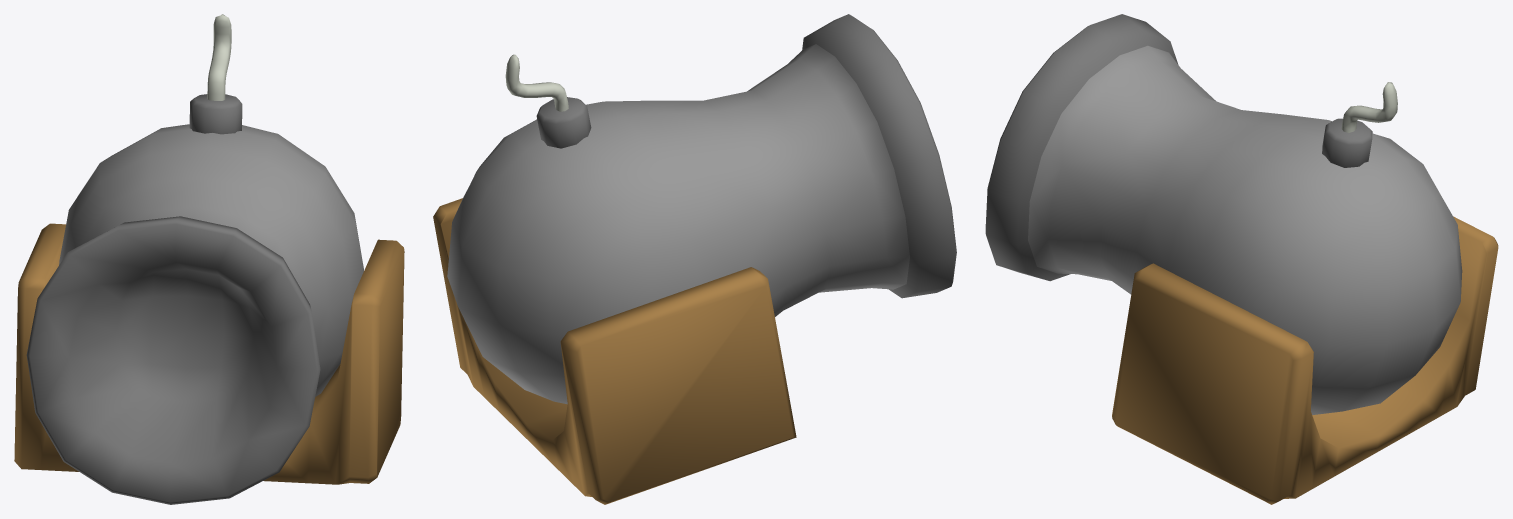
Rendered from Cannon.gltf.
The picture shows the model from 3 angles, left to right: view 1: azimuth 30°, elevation 25°; view 2: azimuth 150°, elevation 25°; view 3: azimuth 270°, elevation 25°; orthographic projection. The views are drawn at different scales.
Parts seen in each view (by area): view 1: Cannon; view 2: Cannon; view 3: Cannon.
Part boxes in pixels (x1,y1,x2,y2): Cannon: (14,14,404,504); Cannon: (433,14,956,504); Cannon: (985,14,1498,504).
Size of the model in its own units: 2.91 by 2.45 by 3.04.
